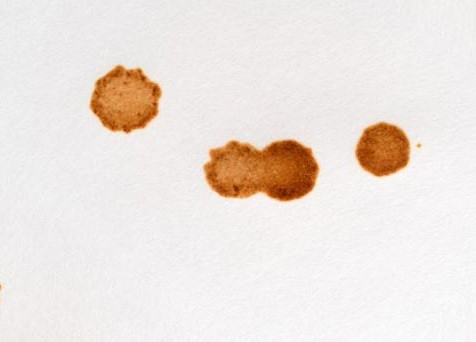stain: (203, 136, 328, 210), (87, 62, 169, 137), (351, 118, 426, 179)
